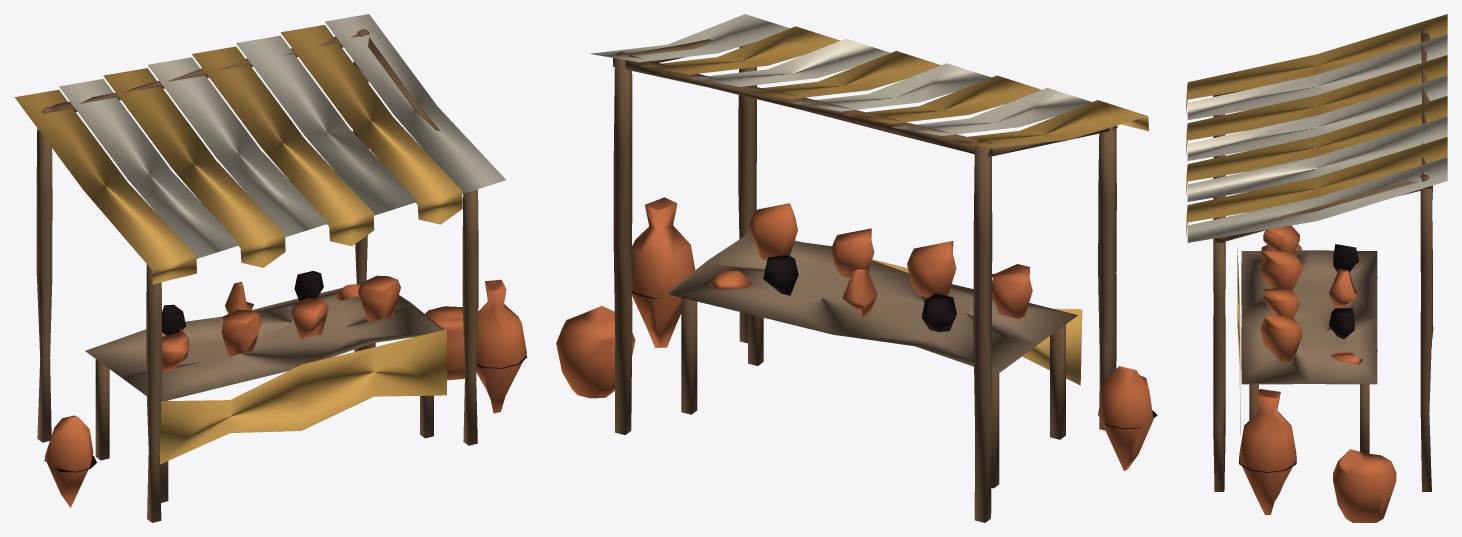
Rendered from biz_stall_t1_pottery.glb.
3 renders of one model, left to right at view 1: azimuth 30°, elevation 25°; view 2: azimuth 150°, elevation 25°; view 3: azimuth 270°, elevation 25°, orthographic. The views are drawn at different scales.
Parts seen in each view (by area): view 1: cloth_ochre, cloth_cream, wood_dark, terracotta, wood, black_glaze; view 2: wood_dark, terracotta, wood, cloth_ochre, cloth_cream, black_glaze; view 3: cloth_ochre, cloth_cream, terracotta, wood, wood_dark, black_glaze.
Part boxes in pixels (<box>): cloth_ochre: <box>15,25,462,464</box>; cloth_cream: <box>59,14,506,258</box>; wood_dark: <box>36,29,478,522</box>; terracotta: <box>44,275,526,507</box>; wood: <box>85,283,443,401</box>; black_glaze: <box>44,271,527,472</box>; wood_dark: <box>613,39,1117,522</box>; terracotta: <box>556,197,1153,470</box>; wood: <box>668,233,1077,374</box>; cloth_ochre: <box>640,26,1148,385</box>; cloth_cream: <box>589,14,1091,135</box>; black_glaze: <box>632,255,1157,428</box>; cloth_ochre: <box>1186,14,1447,434</box>; cloth_cream: <box>1187,34,1447,242</box>; terracotta: <box>1239,225,1396,522</box>; wood: <box>1241,250,1377,384</box>; wood_dark: <box>1213,29,1433,491</box>; black_glaze: <box>1239,244,1358,472</box>.
Size of the model in its own units: 3.77 by 2.56 by 1.89.
